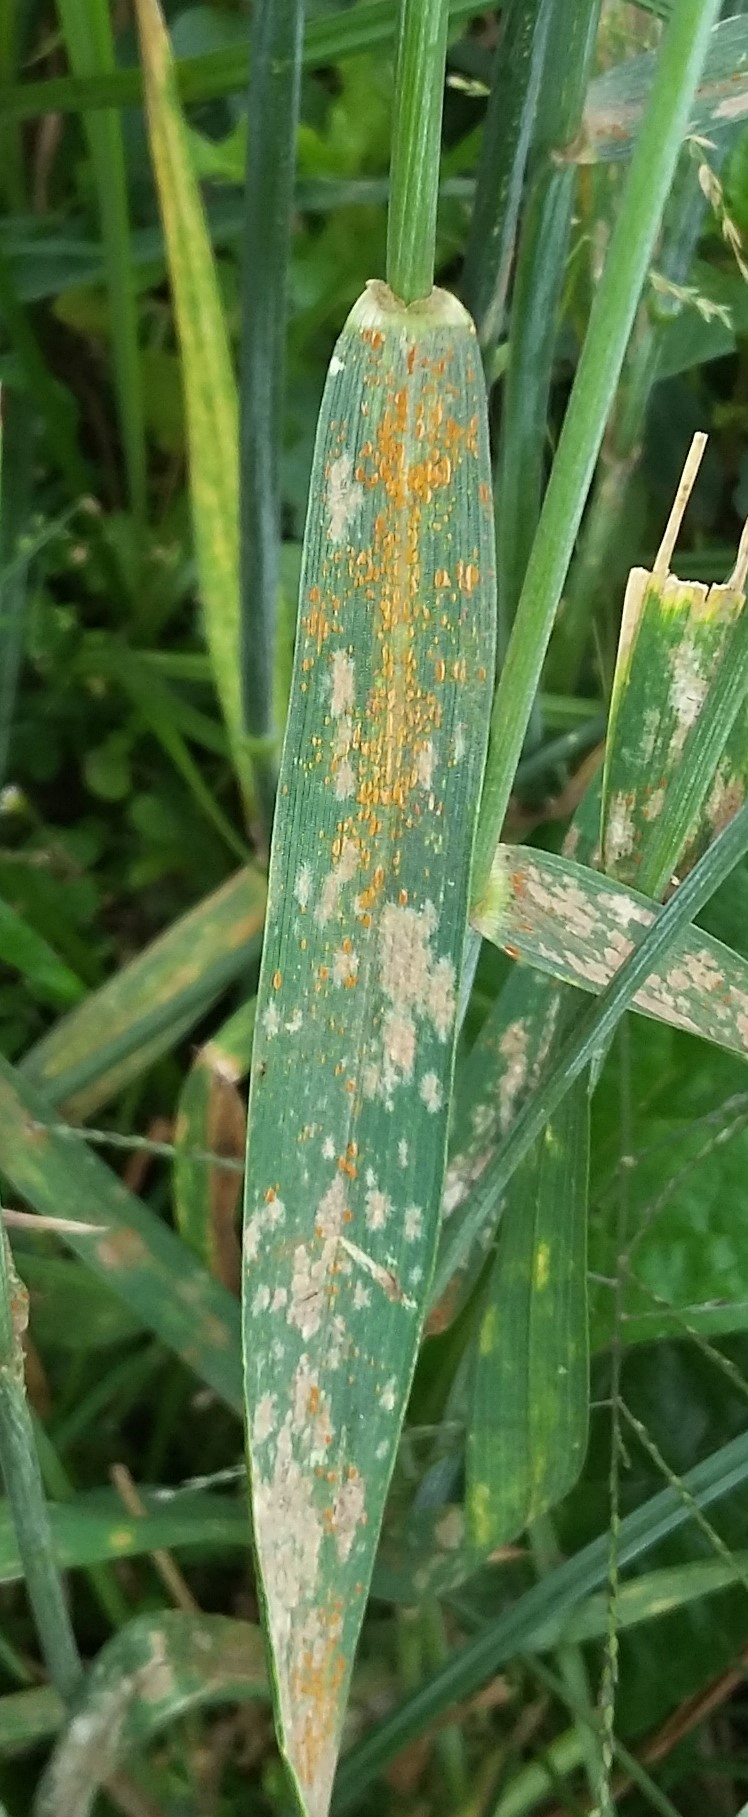Leaf Rust: (278, 327, 514, 1002)
